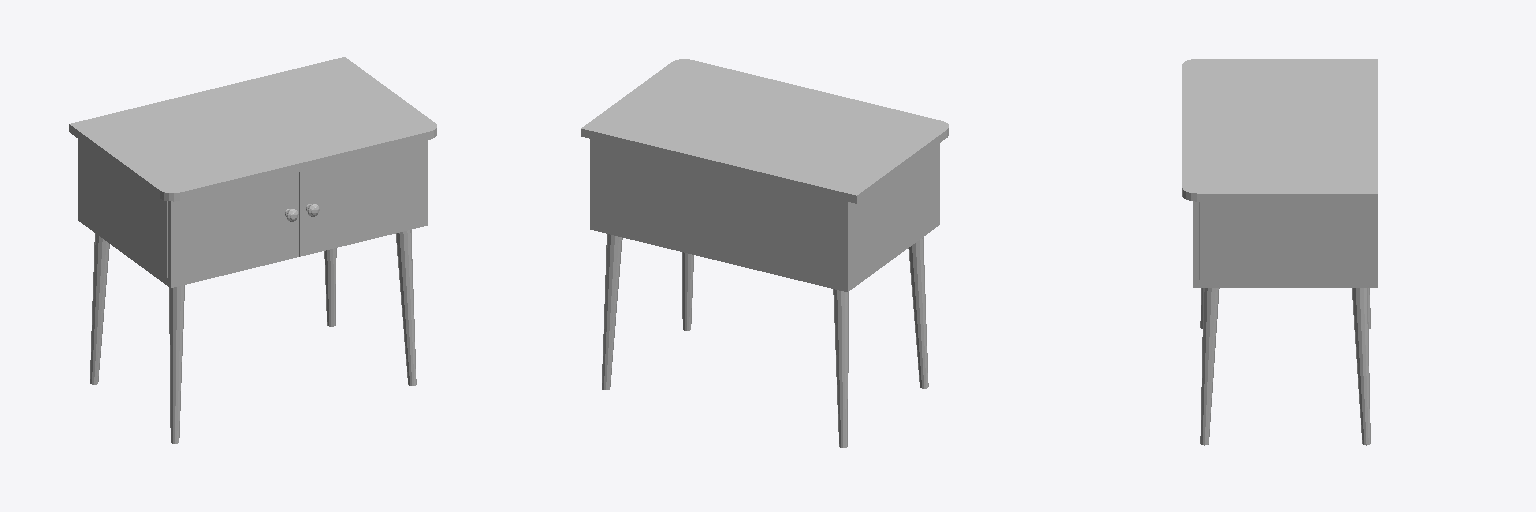
File: Tv_Table.obj
The picture shows the model from 3 angles: view 1: azimuth 30°, elevation 25°; view 2: azimuth 150°, elevation 25°; view 3: azimuth 270°, elevation 25°; orthographic projection.
Parts seen in each view (by area): view 1: Body_Cube.020, Door_1_Cube.026, Door_2_Cube.023; view 2: Body_Cube.020; view 3: Body_Cube.020, Door_2_Cube.023.
Part boxes in pixels (x1,y1,x2,y2): Body_Cube.020: (69,57,436,443); Door_1_Cube.026: (167,172,298,287); Door_2_Cube.023: (299,140,427,256); Body_Cube.020: (581,59,948,447); Body_Cube.020: (1182,59,1377,445); Door_2_Cube.023: (1193,201,1199,287).
Bounding box in the file's own units: 1.11 × 1 × 0.6853.